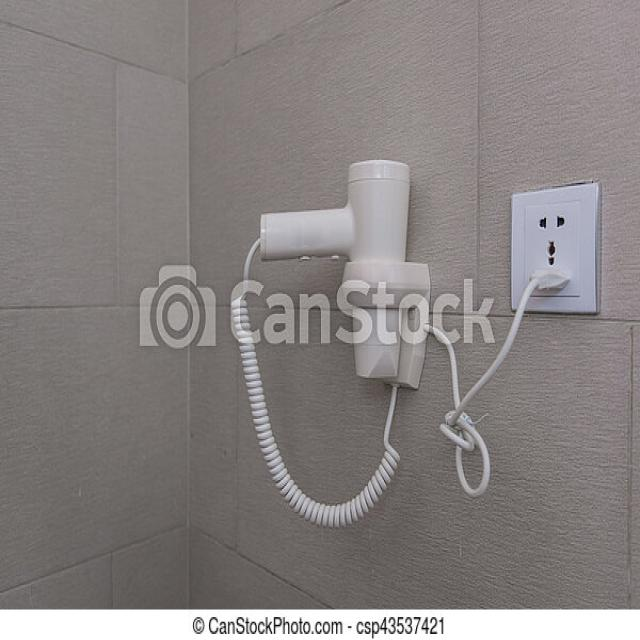dryer: (209, 115, 458, 551)
